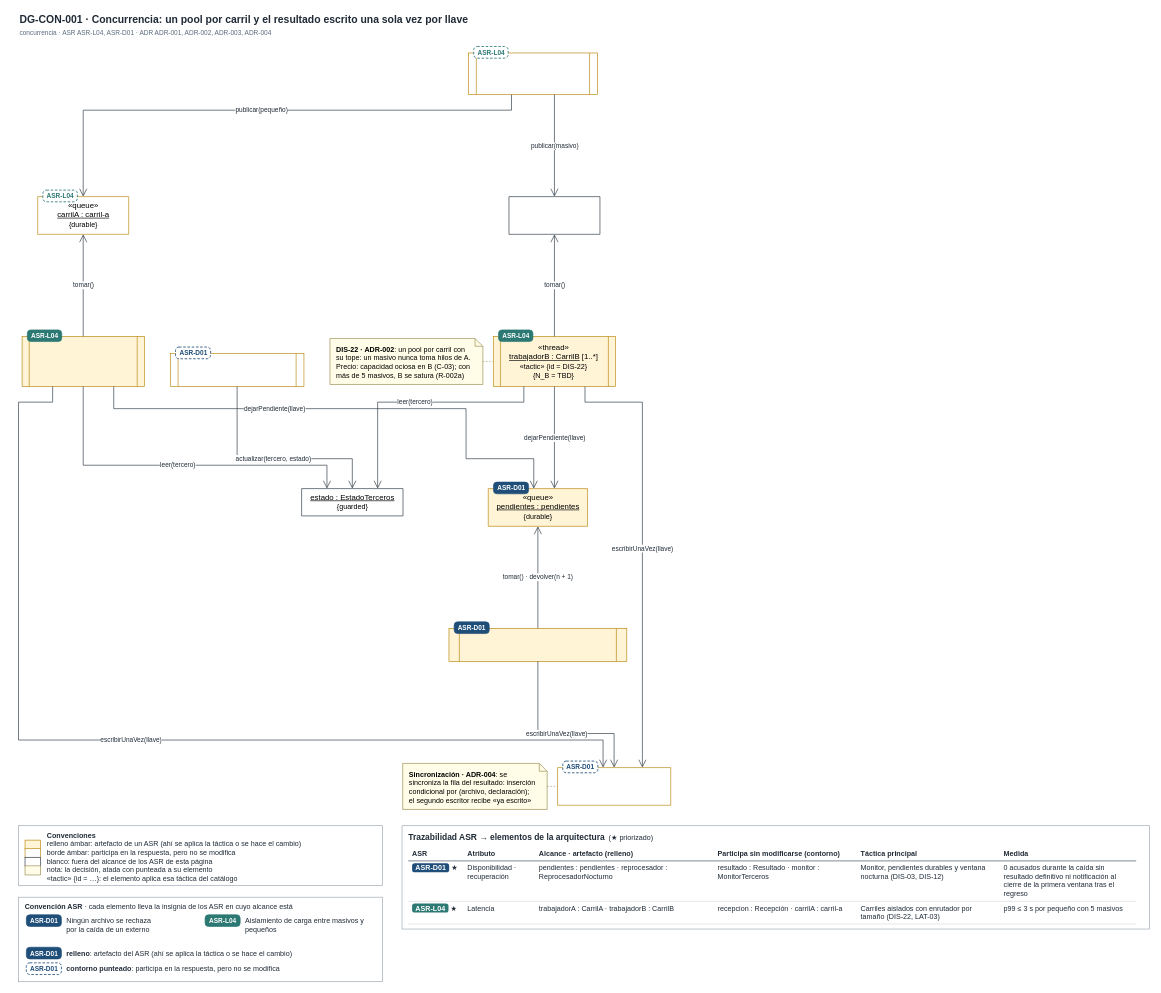
This 1161x993 diagram has some shape labels left out. Here are the shapes that lost their labels. From the top down, the centre of each, then its label:
At point (532, 73): "«process» recepcion : Recepción [1..*] {N = TBD}".
At point (554, 215): "«queue» carrilB : carril-b {durable}".
At point (82, 361): "«thread» trabajadorA : CarrilA [1..*] «tactic» {id = DIS-22} {N_A = TBD}".
At point (237, 370): "«process» monitor : MonitorTerceros [1]".
At point (537, 644): "«process» reprocesador : ReprocesadorNocturno [1]".
At point (614, 786): "resultado : Resultado {guarded} {unique (archivo, declaración)}".
